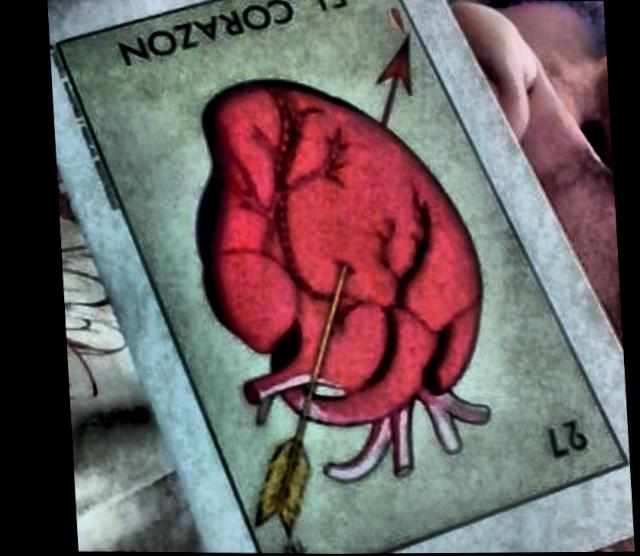El Corazon: (56, 0, 617, 554)
